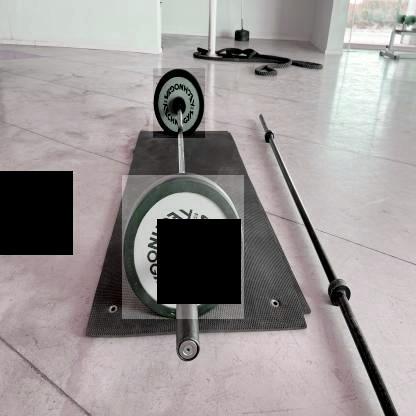barbell: (122, 176, 244, 320), (154, 69, 206, 138)
